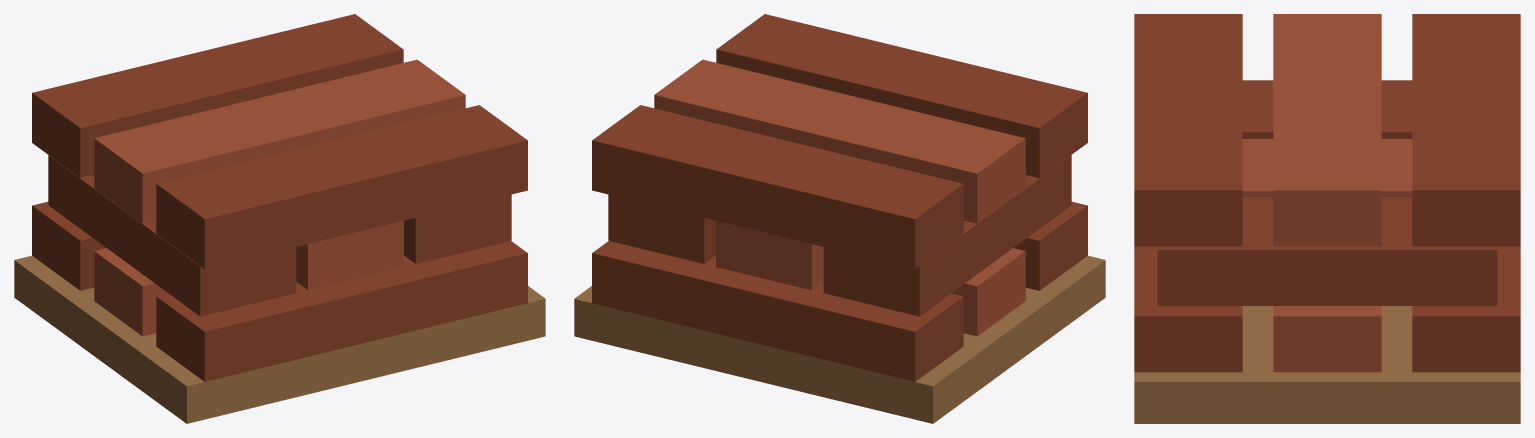
File: v2-brick-pallet.glb
The picture shows the model from 3 angles, left to right: view 1: azimuth 30°, elevation 25°; view 2: azimuth 150°, elevation 25°; view 3: azimuth 270°, elevation 25°; orthographic projection. The views are drawn at different scales.
Visible parts, largest first — view 1: v2-brick-pallet; view 2: v2-brick-pallet; view 3: v2-brick-pallet.
Part boxes in pixels (x1=…): v2-brick-pallet: x1=14, y1=14, x2=545, y2=423; v2-brick-pallet: x1=574, y1=14, x2=1105, y2=423; v2-brick-pallet: x1=1134, y1=14, x2=1520, y2=423.
Size of the model in its own units: 0.6 by 0.32 by 0.5.
